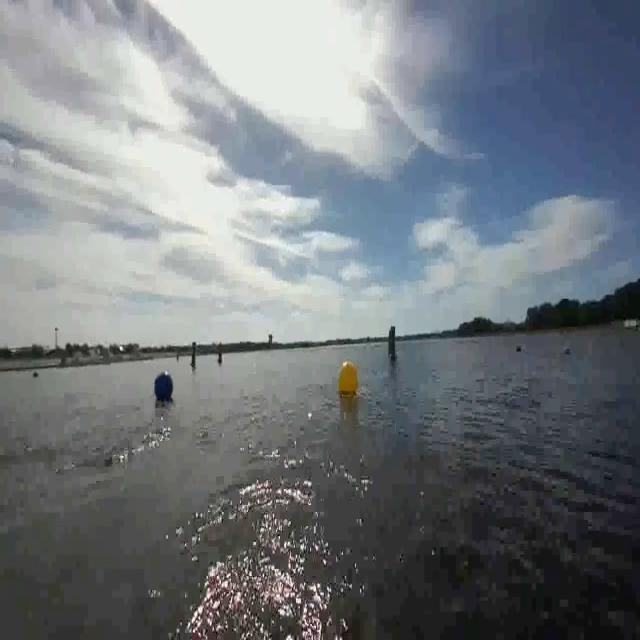blue-buoy: (153, 370, 172, 399)
green-column-buoy: (390, 324, 398, 358), (190, 343, 197, 367)
yellow-buoy: (339, 362, 361, 396)
